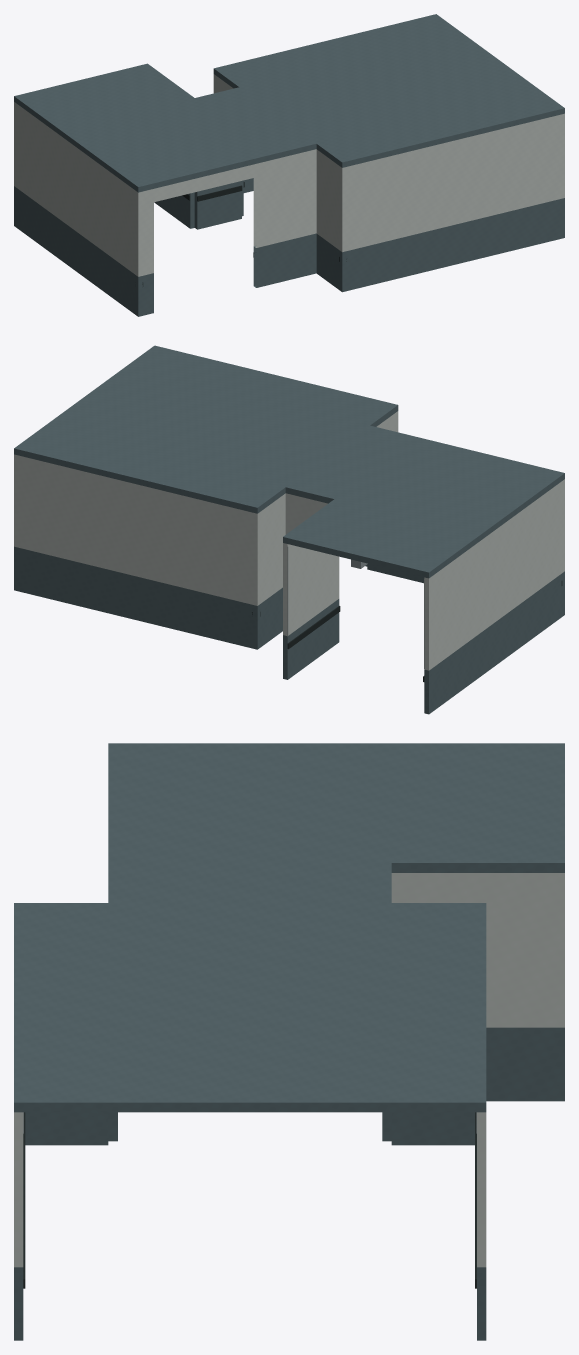
The model's file is AST-STF-G3-059.glb.
3 renders of one model, top to bottom at view 1: azimuth 30°, elevation 25°; view 2: azimuth 150°, elevation 25°; view 3: azimuth 270°, elevation 25°, orthographic. The views are drawn at different scales.
Visible parts, largest first — view 1: HOME_BATCH_031_ASTRAEA_staff_bluegrey_paint, HOME_BATCH_198_ASTRAEA_staff_white_paint; view 2: HOME_BATCH_031_ASTRAEA_staff_bluegrey_paint, HOME_BATCH_198_ASTRAEA_staff_white_paint; view 3: HOME_BATCH_031_ASTRAEA_staff_bluegrey_paint, HOME_BATCH_198_ASTRAEA_staff_white_paint, HOME_BATCH_148_ASTRAEA_staff_rubber.
Part boxes in pixels (x1,y1,x2,y2): HOME_BATCH_031_ASTRAEA_staff_bluegrey_paint: (14,14,564,316); HOME_BATCH_198_ASTRAEA_staff_white_paint: (14,74,564,276); HOME_BATCH_031_ASTRAEA_staff_bluegrey_paint: (14,345,564,714); HOME_BATCH_198_ASTRAEA_staff_white_paint: (14,411,564,670); HOME_BATCH_031_ASTRAEA_staff_bluegrey_paint: (14,743,564,1340); HOME_BATCH_198_ASTRAEA_staff_white_paint: (14,873,564,1267); HOME_BATCH_148_ASTRAEA_staff_rubber: (23,1112,476,1288).
Size of the model in its own units: 10.8 by 3.34 by 7.
4 materials, 4 textured.
